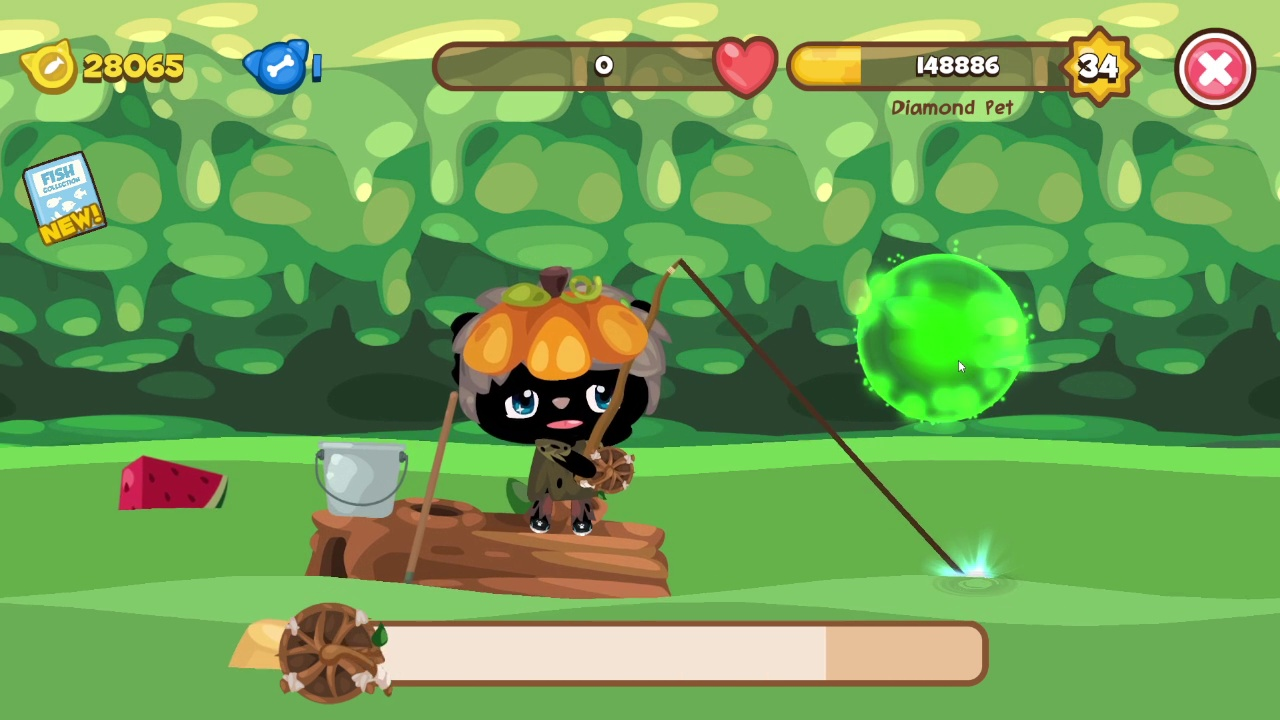point: (854, 252, 1030, 423)
